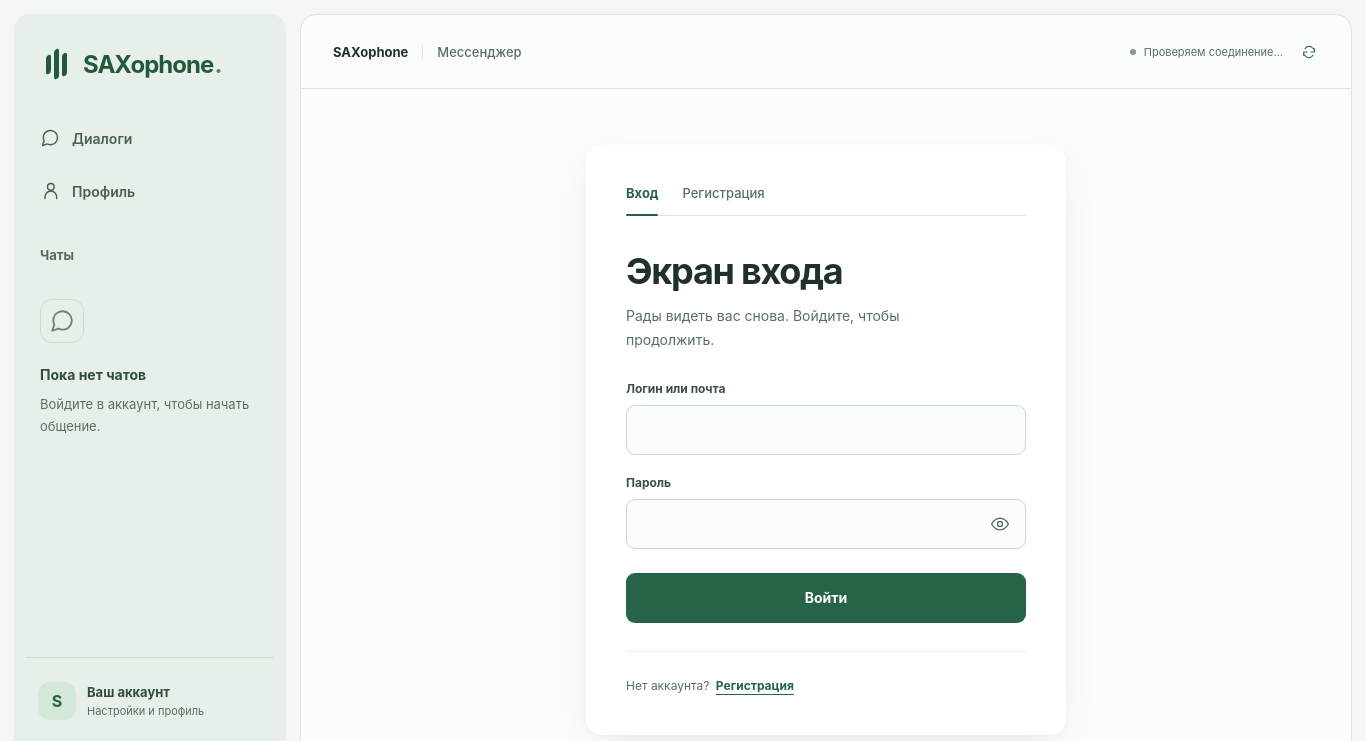
Test: вход и защищённые страницы › показывает неверные данные и сетевую ошибку без потери полей
The width and height of the screenshot is (1366, 741).
Type "alice" into the field labelled "Логин или почта" at (826, 430), box [626,405,1026,455]
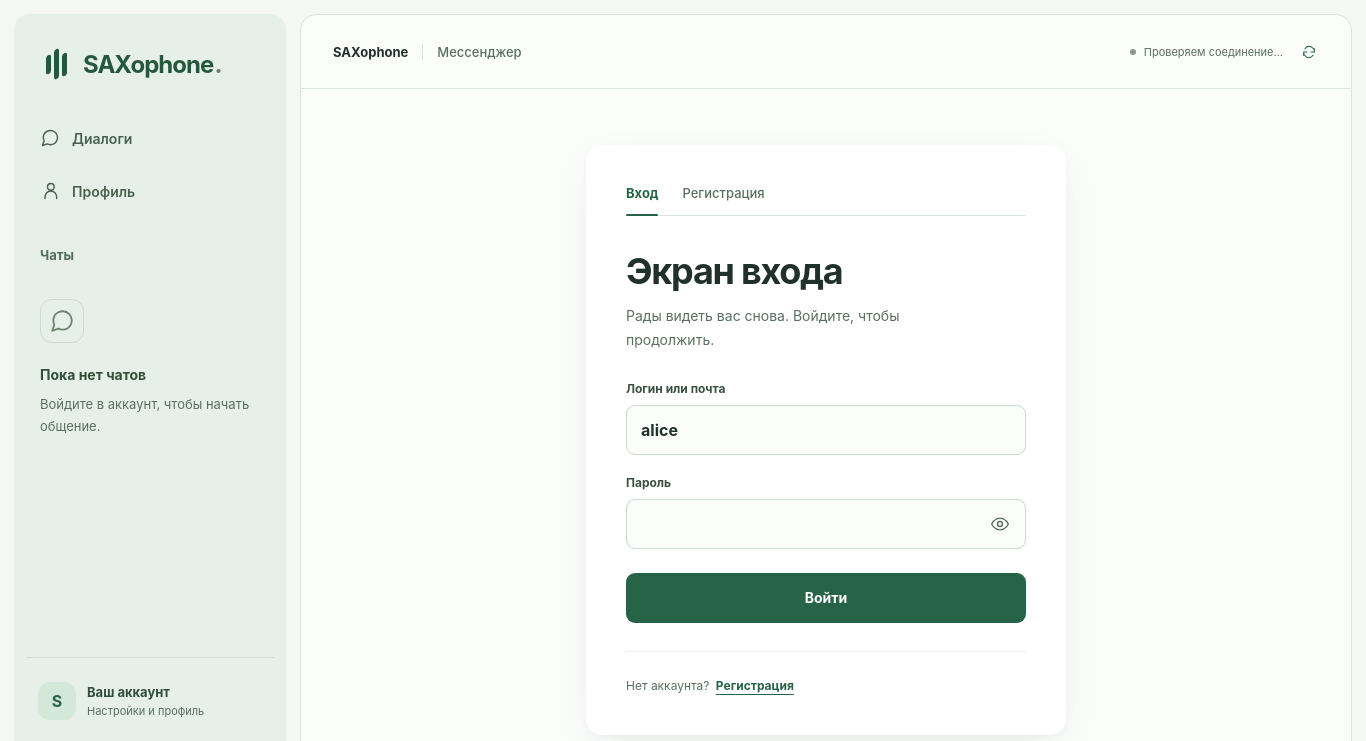
Type "wrong" into the password field labelled "Пароль" at (826, 524), box [626,499,1026,549]
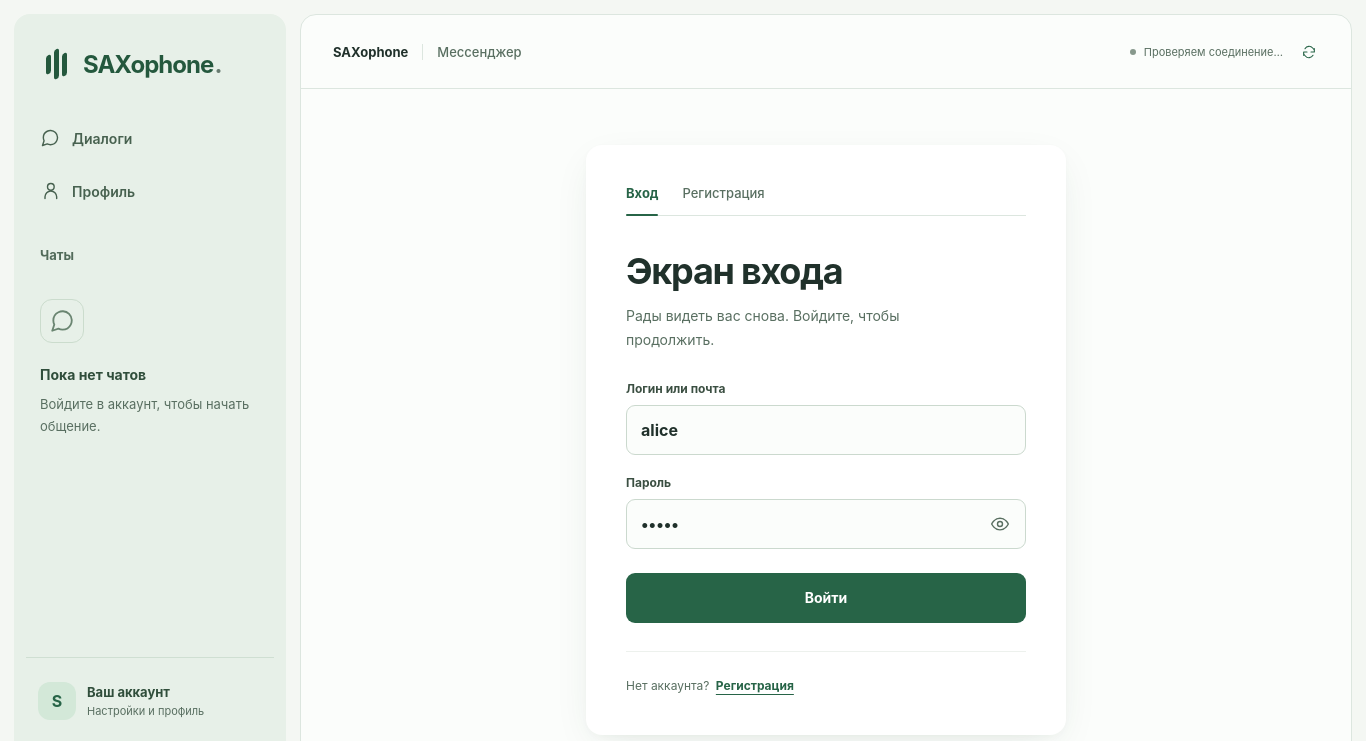
Click the button "Войти" at (826, 598), box [626,573,1026,623]
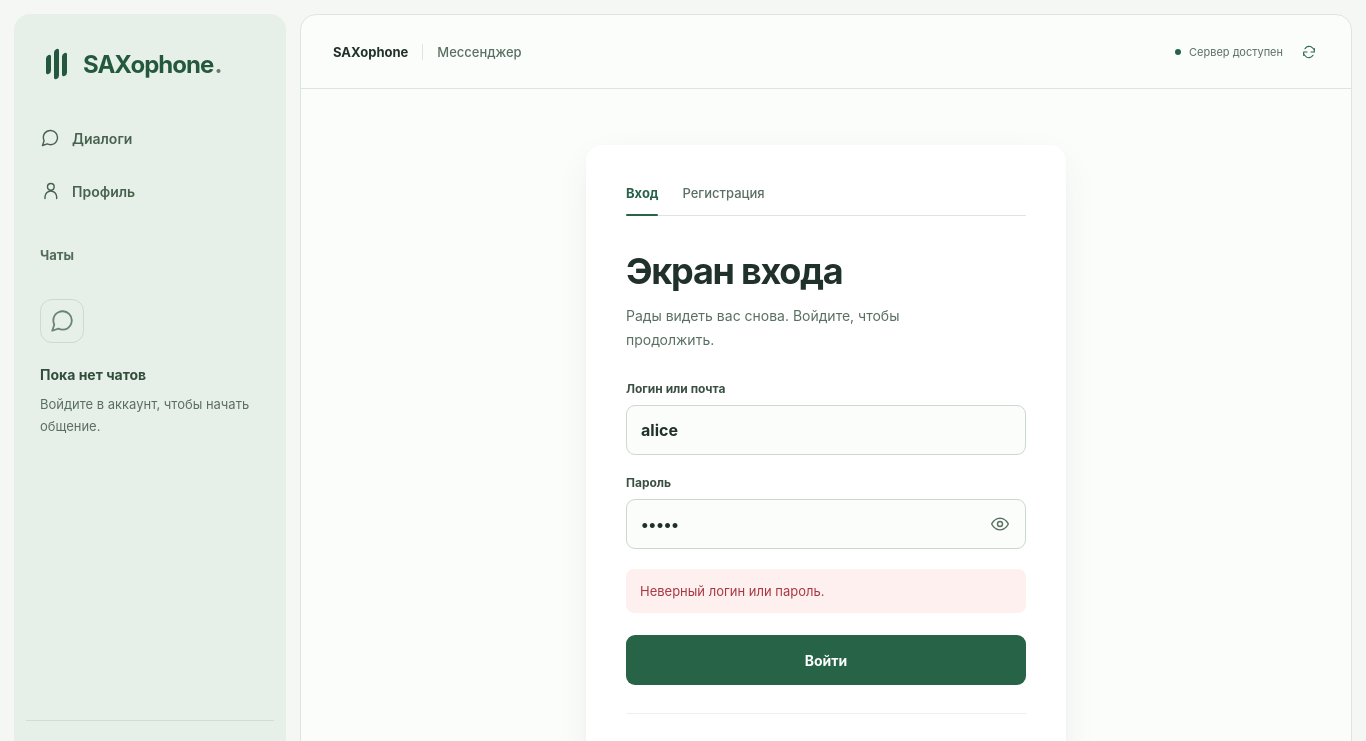
Expected: the message "Неверный логин или пароль." is shown, [626,569,1026,614]
Click the button "Войти" at (826, 660), box [626,636,1026,686]
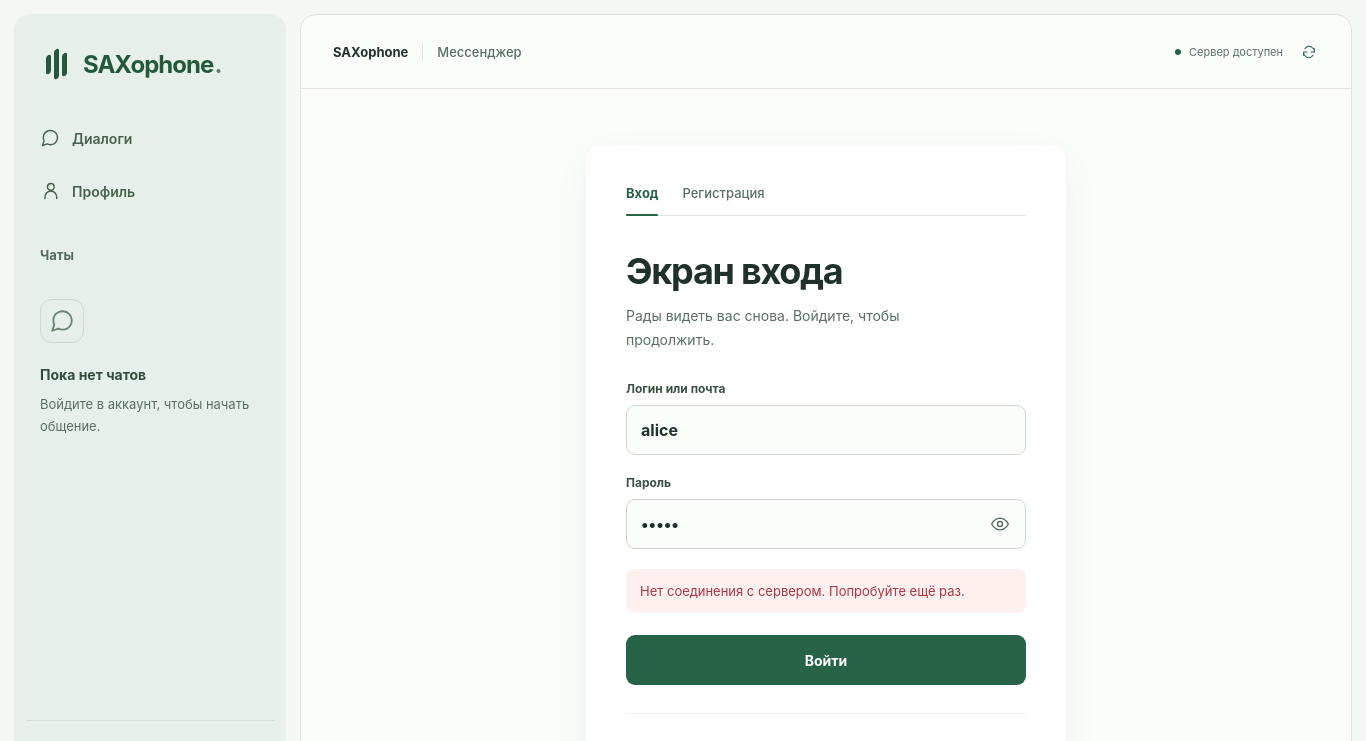
Expected: the message "Нет соединения с сервером. Попробуйте ещё раз." is shown, [626,569,1026,614]
